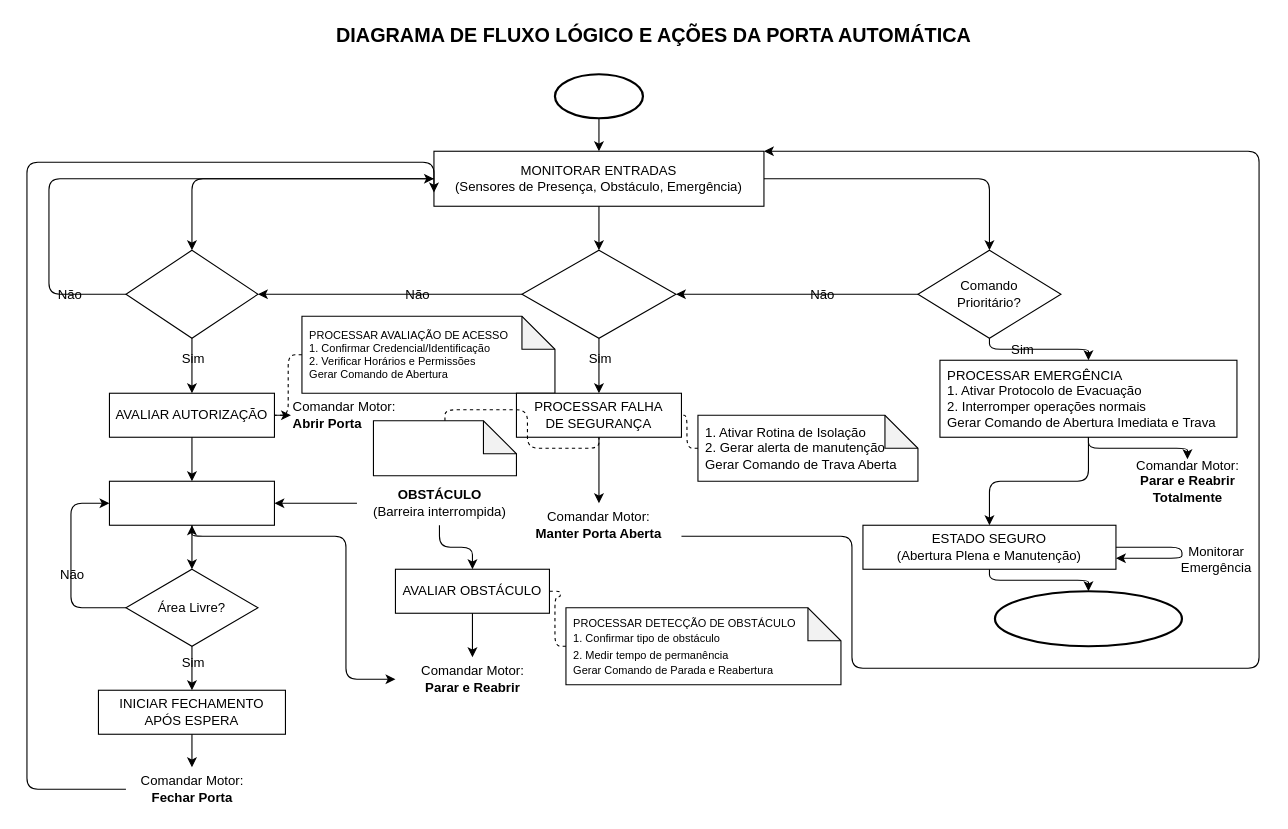
Image size: 1288x829. Some labels were removed from this diagram. The shapes that lost their labels are listed below. From the top down, each one's box as (x1, y1, x2, y2) in pixels, then its label:
(553, 73, 644, 119): Início
(125, 249, 258, 338): Presença Detectada?
(521, 249, 676, 338): Sinal Inválido / Falha de Sensor?
(372, 420, 516, 476): FALHA DE SENSOR: Sensor inválido
(108, 480, 274, 525): Aguardar Passagem e Contar Tempo
(993, 590, 1182, 647): Fim (Intervenção Necessária)
